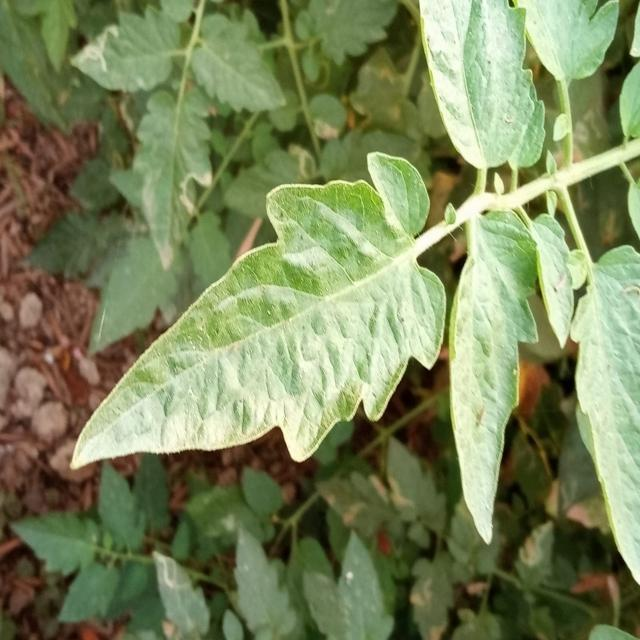Healthy: (61, 106, 521, 600), (448, 210, 538, 543), (414, 0, 555, 182)
